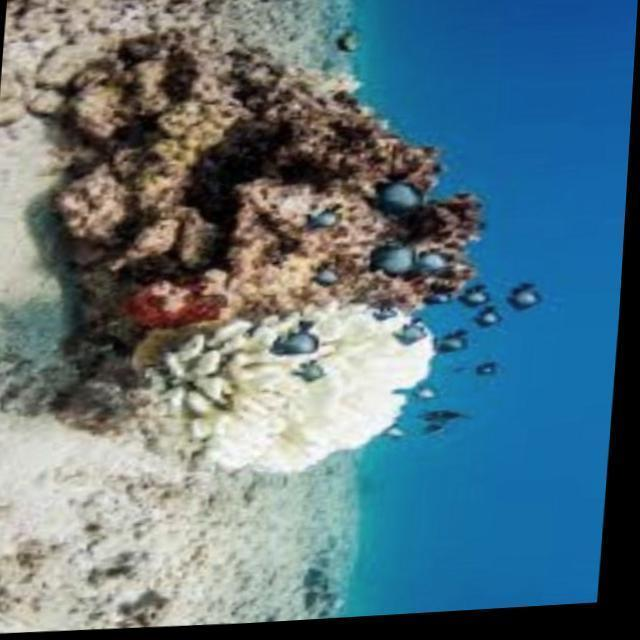Dead Coral: (106, 70, 507, 318)
